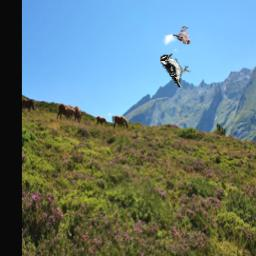Sparrow: (171, 25, 190, 44)
Woodpecker: (159, 54, 190, 88)
